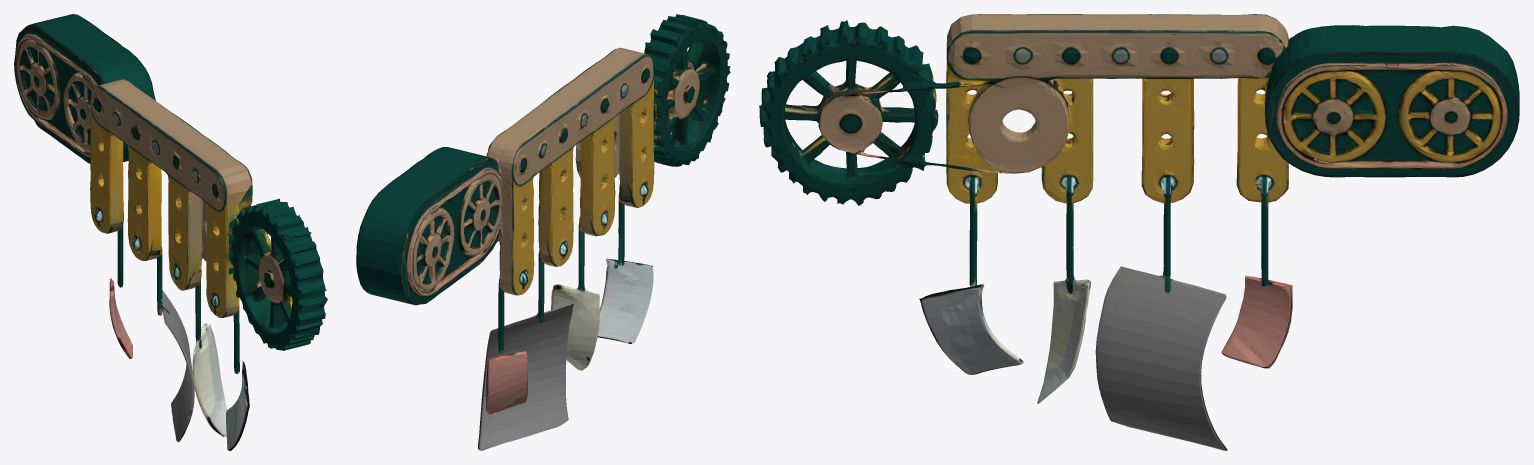
File: machine_top.glb
3 renders of one model, left to right at view 1: azimuth 30°, elevation 25°; view 2: azimuth 150°, elevation 25°; view 3: azimuth 270°, elevation 25°, orthographic. The views are drawn at different scales.
Visible parts, largest first — view 1: tripo_node_4929bd27-859a-42a7-9647-c111d1fc4503; view 2: tripo_node_4929bd27-859a-42a7-9647-c111d1fc4503; view 3: tripo_node_4929bd27-859a-42a7-9647-c111d1fc4503.
Boxes of the visible parts, x1,y1,x2,y2 form: tripo_node_4929bd27-859a-42a7-9647-c111d1fc4503: (14, 14, 327, 450); tripo_node_4929bd27-859a-42a7-9647-c111d1fc4503: (356, 14, 730, 450); tripo_node_4929bd27-859a-42a7-9647-c111d1fc4503: (759, 14, 1519, 450).
Size of the model in its own units: 0.1329 by 0.5858 by 0.9999.
Materials: 1 (1 with a texture image).
